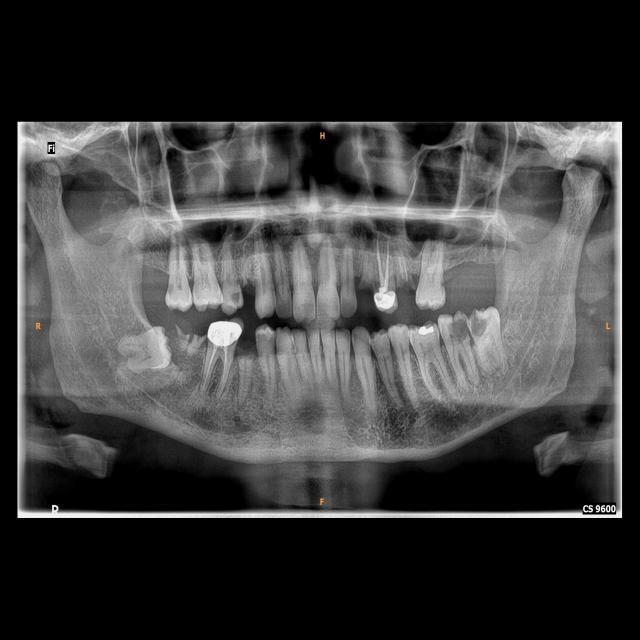dentin-curugu: (437, 312, 470, 347), (466, 304, 494, 343), (224, 284, 246, 308)
dolgu: (412, 314, 437, 342)
kanal-tedavisi: (206, 344, 234, 388), (373, 239, 395, 288), (394, 247, 410, 280)
kaplama: (207, 318, 240, 351), (370, 287, 401, 317)
kirik: (174, 318, 208, 357), (229, 336, 260, 374), (352, 270, 379, 295), (395, 274, 418, 298)
